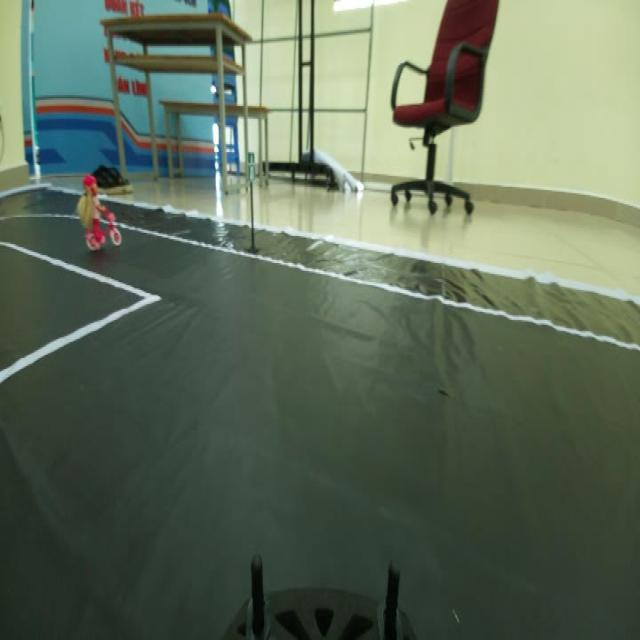pedestrian: (70, 171, 130, 255)
